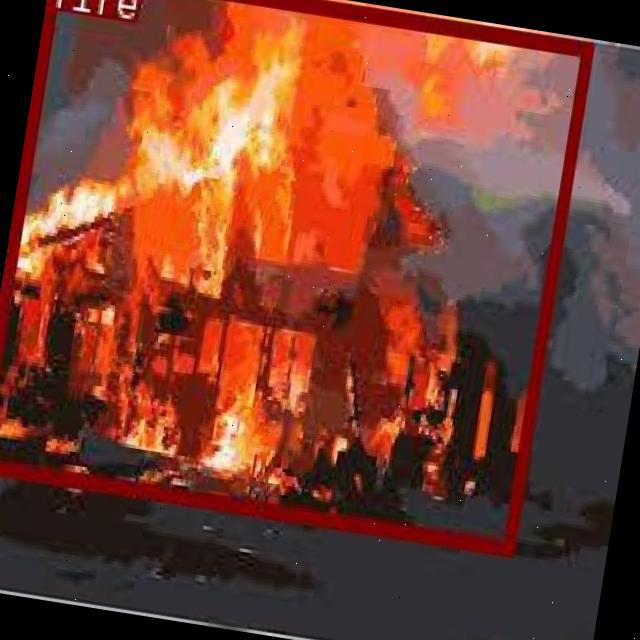fire: (0, 0, 591, 552)
